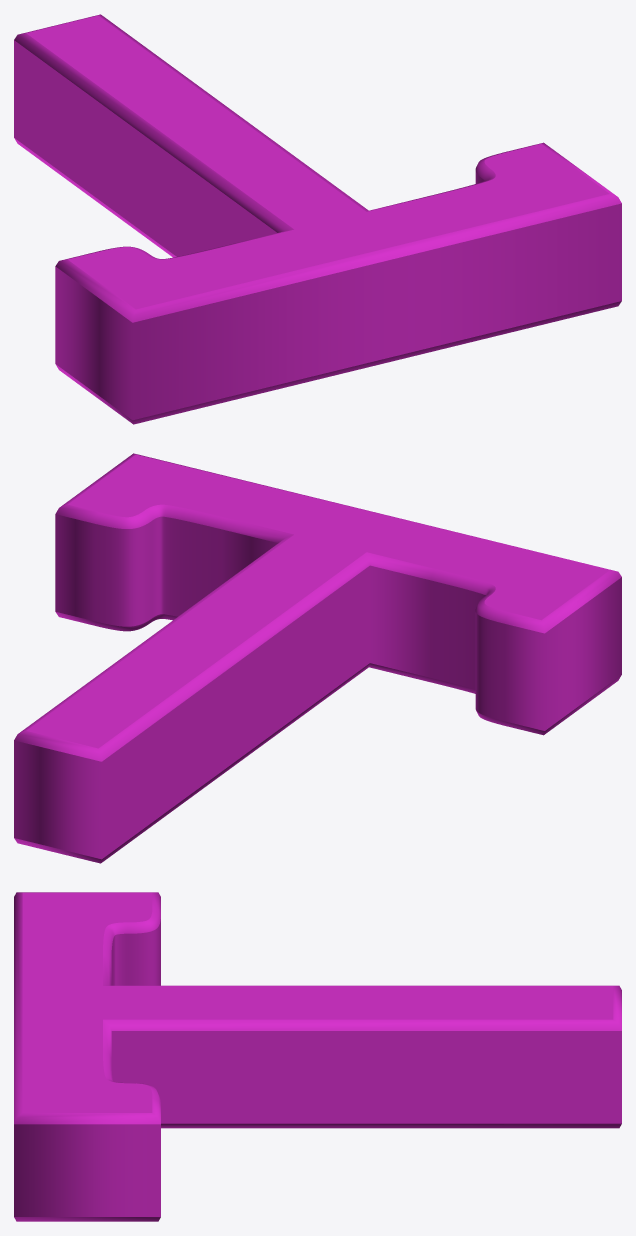
Rendered from Letter_T_Capital_CoolFont.fbx.
The picture shows the model from 3 angles, top to bottom: view 1: azimuth 30°, elevation 25°; view 2: azimuth 150°, elevation 25°; view 3: azimuth 270°, elevation 25°; orthographic projection. The views are drawn at different scales.
Visible parts, largest first — view 1: Letter_T; view 2: Letter_T; view 3: Letter_T.
Part boxes in pixels (x1,y1,x2,y2): Letter_T: (14,14,621,424); Letter_T: (14,453,621,863); Letter_T: (14,892,621,1221).
Bounding box in the file's own units: 0.6299 × 0.14 × 0.712.
